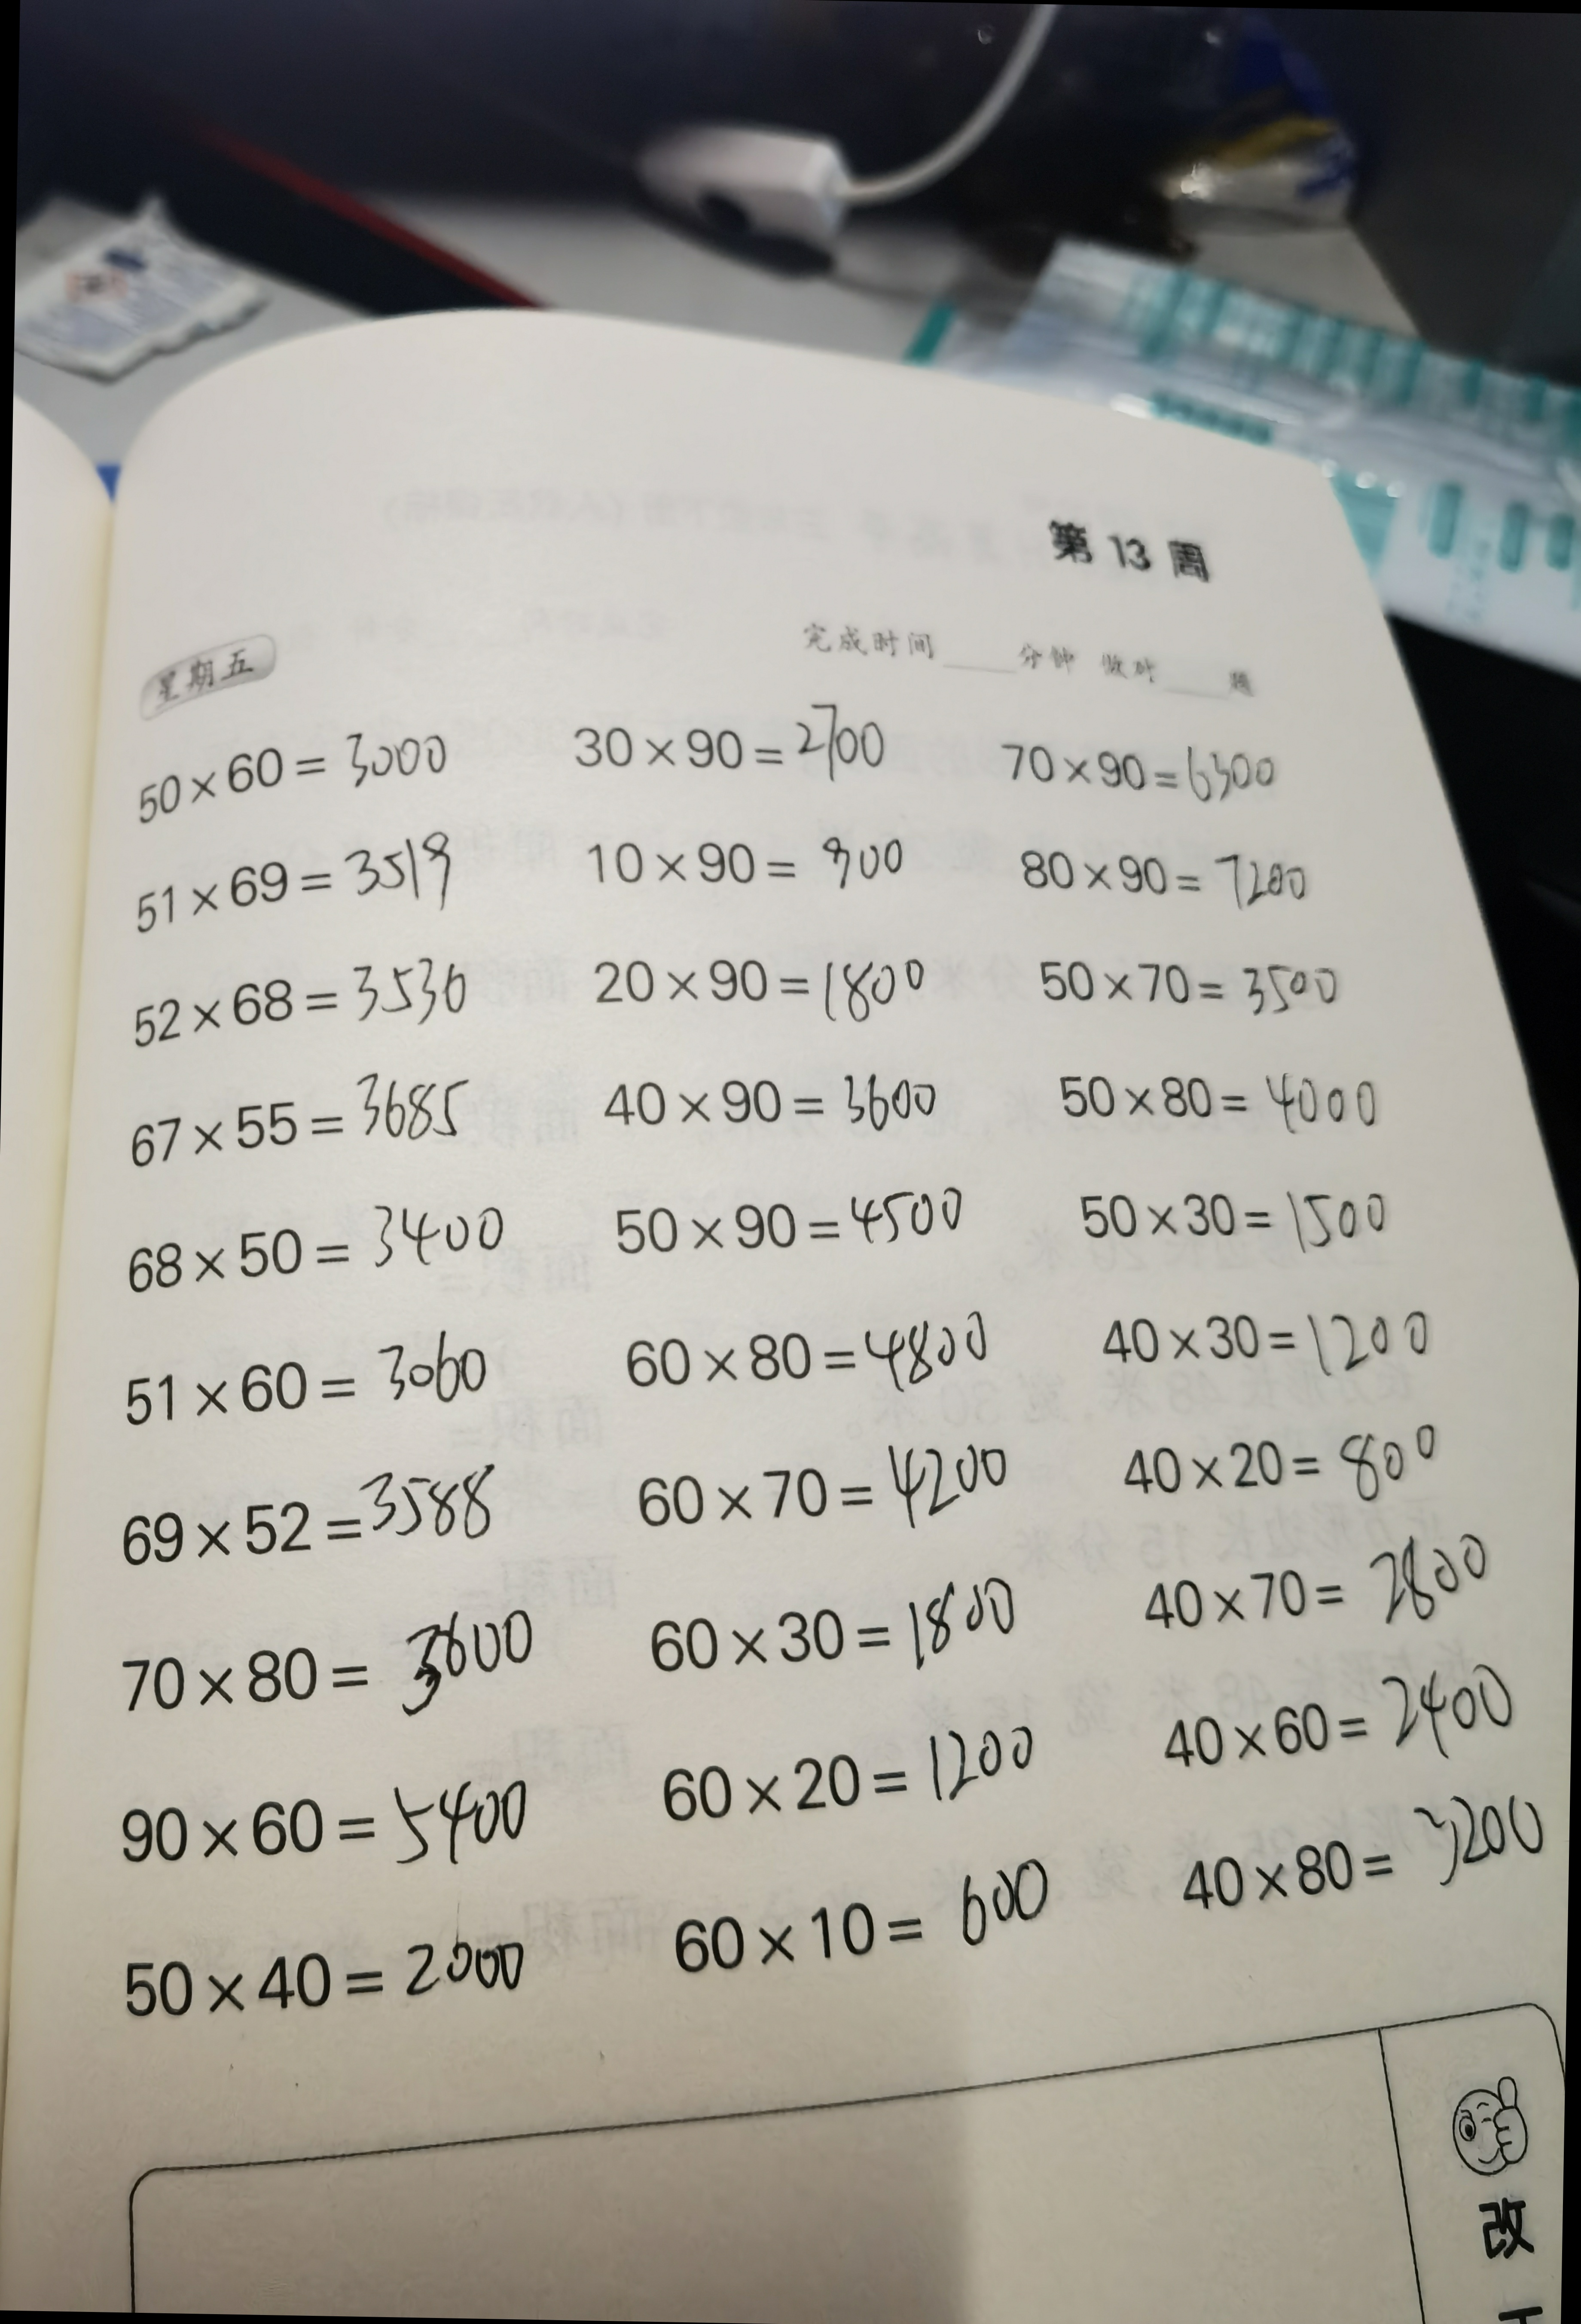equation: (65, 1913, 558, 2040), (71, 1590, 521, 1724), (621, 1851, 1078, 1976), (92, 1763, 558, 1885), (632, 1721, 1071, 1849), (632, 1553, 1076, 1676), (1149, 1779, 1563, 1911), (109, 1177, 535, 1302), (540, 662, 902, 803), (88, 1465, 542, 1574), (94, 706, 492, 829), (1126, 1653, 1546, 1770), (88, 941, 501, 1055), (101, 1069, 503, 1186), (603, 1290, 1029, 1392), (582, 1046, 979, 1154), (1129, 1526, 1512, 1638), (113, 826, 508, 925), (621, 1436, 1041, 1528), (109, 1329, 519, 1421), (979, 715, 1337, 819), (1036, 1168, 1426, 1263), (584, 932, 960, 1031), (1105, 1406, 1473, 1507), (596, 1165, 997, 1256), (568, 808, 940, 905), (1071, 1293, 1456, 1385), (1029, 932, 1382, 1029), (999, 829, 1360, 918), (1043, 1053, 1410, 1138)
